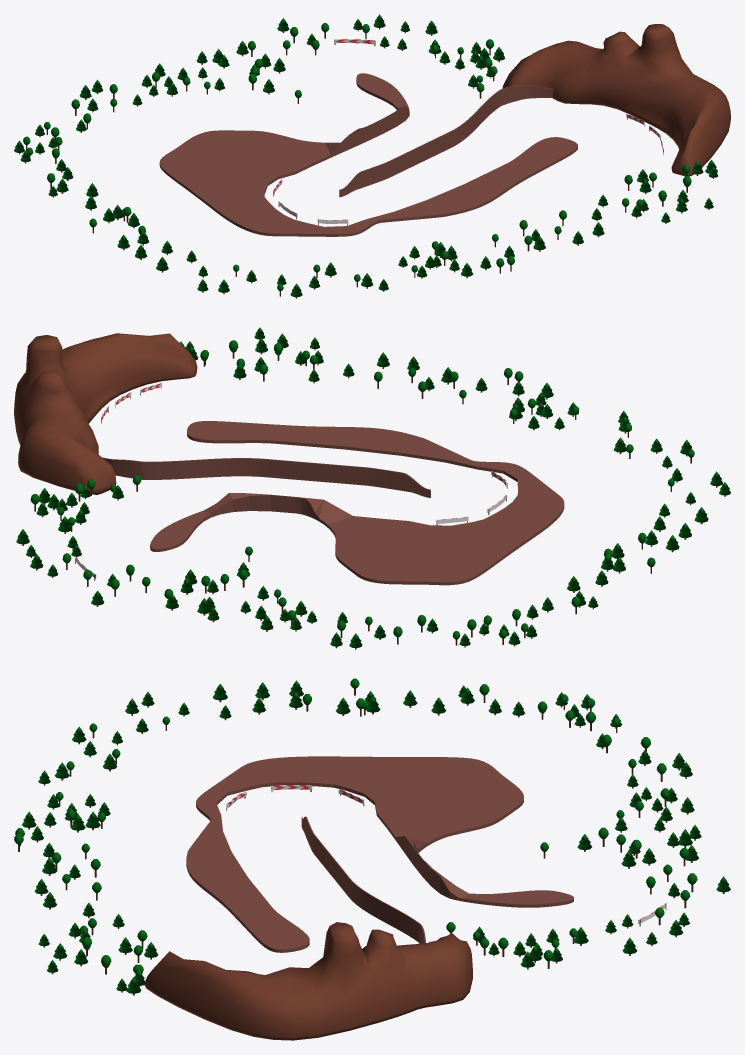
The model's file is bounds.glb.
3 views of the same model, one above another, from view 1: azimuth 30°, elevation 25°; view 2: azimuth 150°, elevation 25°; view 3: azimuth 270°, elevation 25° (orthographic). The views are drawn at different scales.
Visible parts, largest first — view 1: Wall2, Hill, Wall; view 2: Wall2, Hill, Wall; view 3: Wall2, Hill, Wall.
Part boxes in pixels (<box>): Wall2: <box>159,73,577,236</box>; Hill: <box>502,24,730,176</box>; Wall: <box>339,85,553,197</box>; Wall2: <box>150,421,564,585</box>; Hill: <box>14,333,197,494</box>; Wall: <box>102,457,430,497</box>; Wall2: <box>186,756,573,952</box>; Hill: <box>144,922,472,1040</box>; Wall: <box>301,816,425,943</box>.
Size of the model in its own units: 8.03 by 0.9988 by 7.05.
